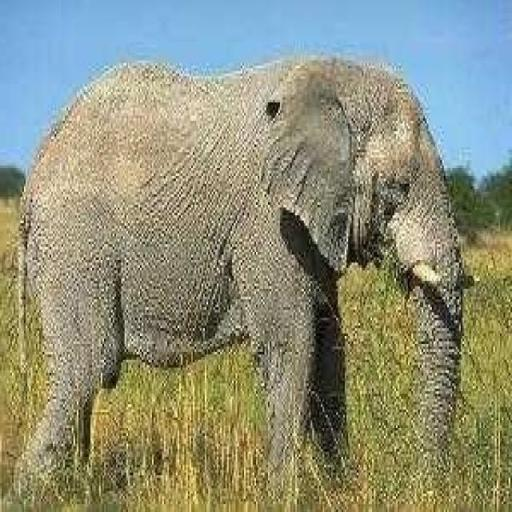Elephant: (14, 52, 474, 488)
